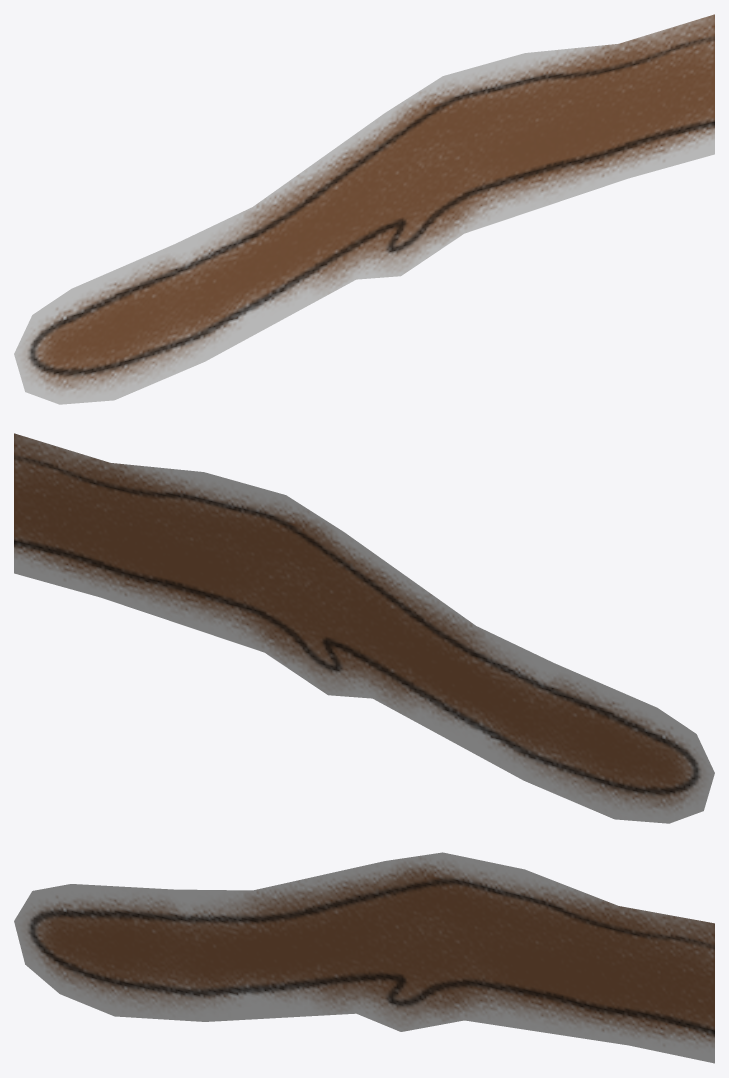
File: Gren3.fbx
3 views of the same model, one above another, from view 1: azimuth 30°, elevation 25°; view 2: azimuth 150°, elevation 25°; view 3: azimuth 330°, elevation 25° (orthographic).
Parts seen in each view (by area): view 1: Gren3; view 2: Gren3; view 3: Gren3.
Boxes of the visible parts, x1,y1,x2,y2 form: Gren3: (14,14,714,404); Gren3: (14,433,714,823); Gren3: (14,852,714,1063).
Bounding box in the file's own units: 34.61 × 11.66 × 1.9e-06.
